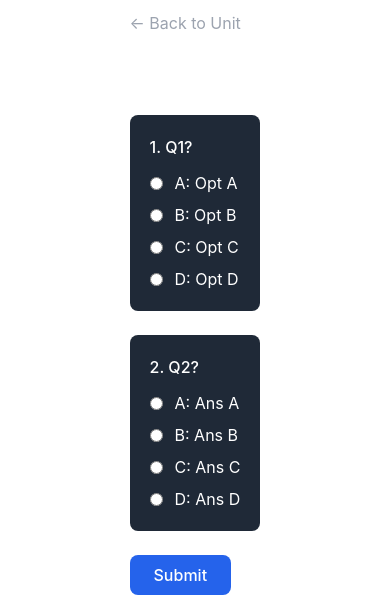
UnitTestPage › submits and shows failed result
Check: the text "Q1?" is shown, box x1=165 y1=137 x2=192 y2=157
Click the button "Submit".
click(180, 575)  # box x1=130 y1=555 x2=231 y2=595
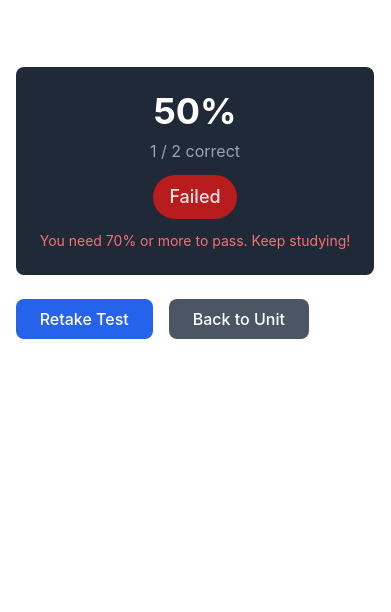
Check: the text "50%" is shown, box x1=153 y1=89 x2=237 y2=133
Check: the text "Failed" is shown, box x1=153 y1=175 x2=237 y2=219
Check: the text "You need 70% or more to pass. Keep studying!" is shown, box x1=40 y1=231 x2=350 y2=251
